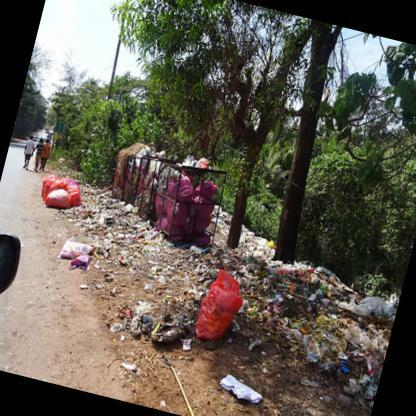Garbage: (188, 230, 366, 374), (238, 252, 384, 386), (88, 236, 194, 315), (183, 267, 250, 356), (31, 166, 87, 225), (50, 227, 106, 281)
